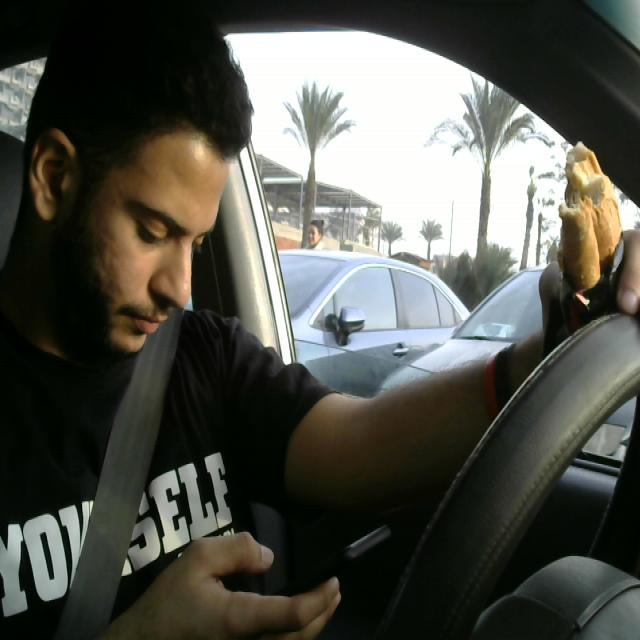eating: (548, 142, 640, 346)
mobile use: (207, 512, 395, 626)
